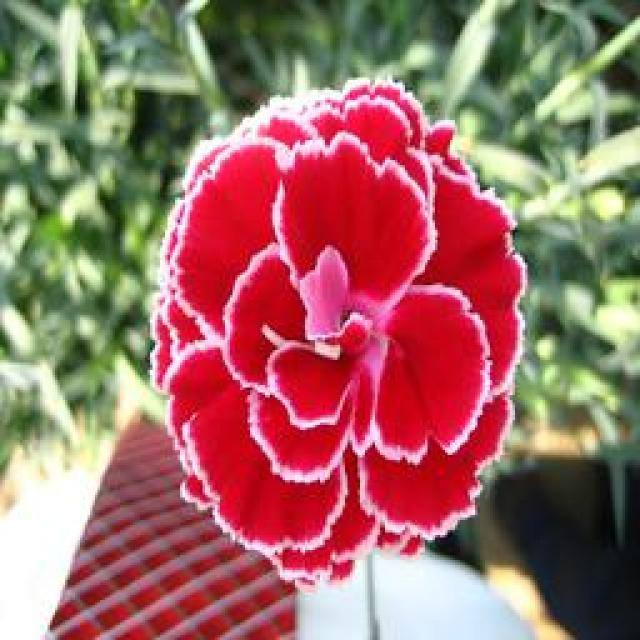carnation: (133, 58, 554, 586)
